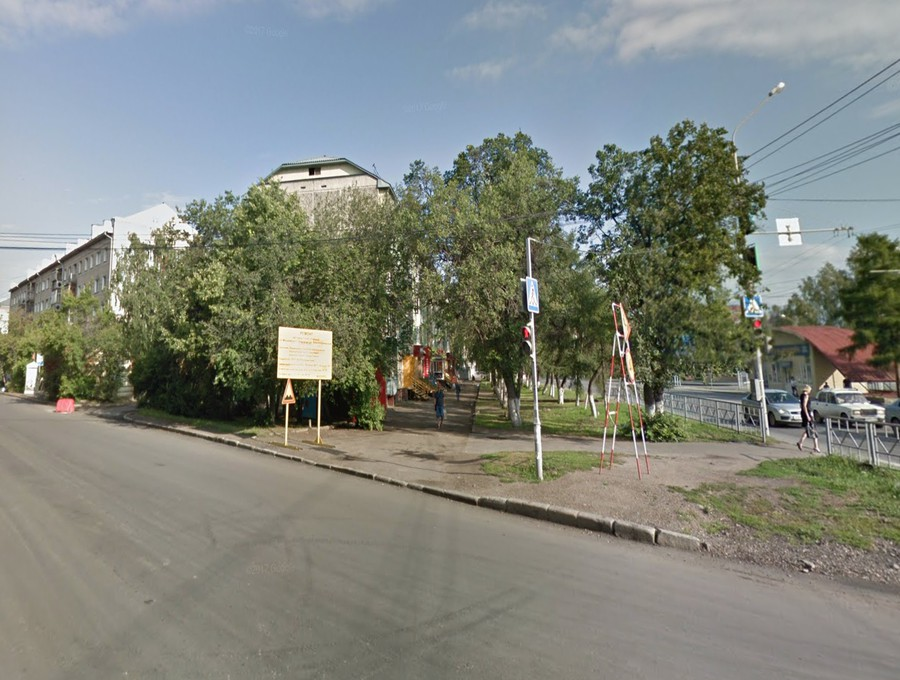Traffic Light-red: (516, 319, 537, 365)
